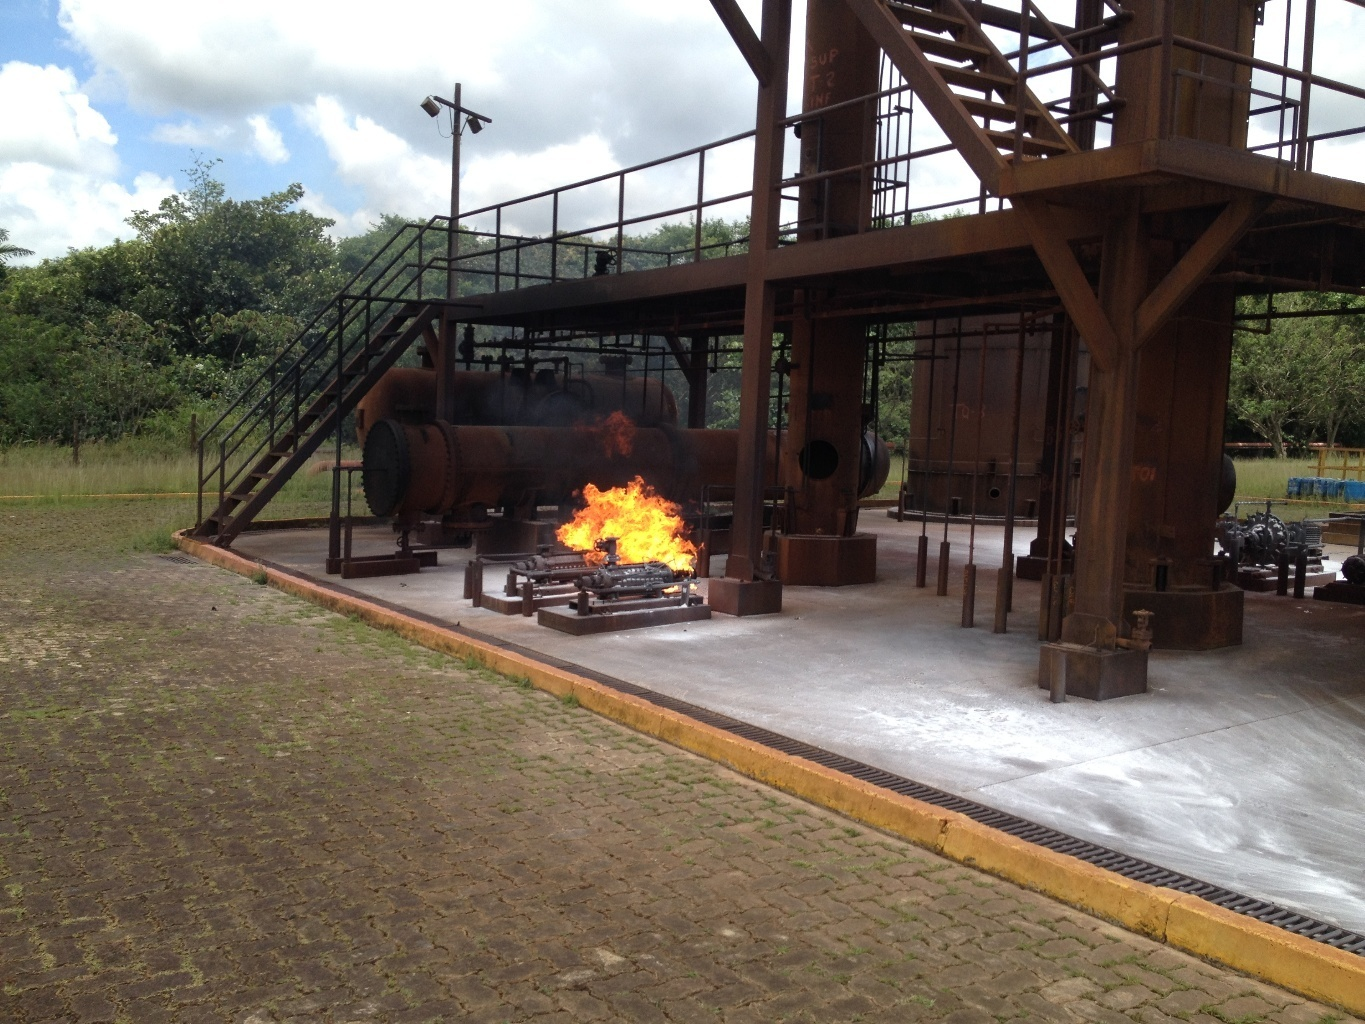fire: (554, 473, 700, 579)
